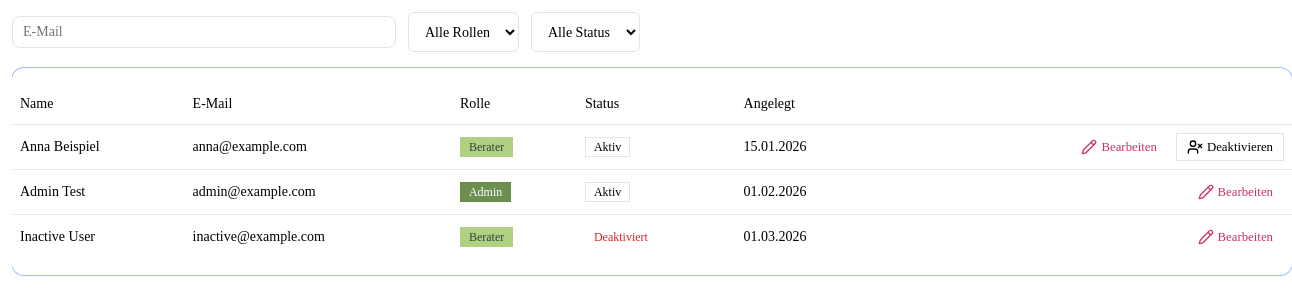
UsersTable › filters by role via the role <select>
Select "Admin" in the dropdown named "Rolle". click: (464, 32)
box: [408,12,519,52]
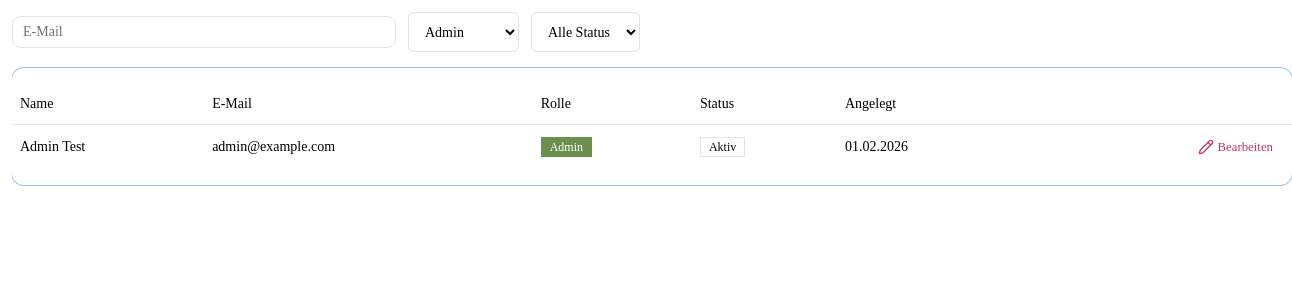
expect the text "Anna Beispiel" is gone: met
expect the text "Admin Test" is shown: met, box [12,124,204,168]
